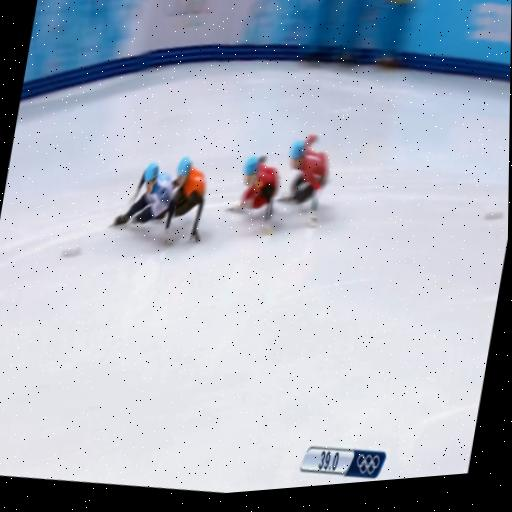Skater: (279, 135, 328, 226), (229, 157, 279, 234), (113, 163, 175, 225), (166, 157, 206, 242)
